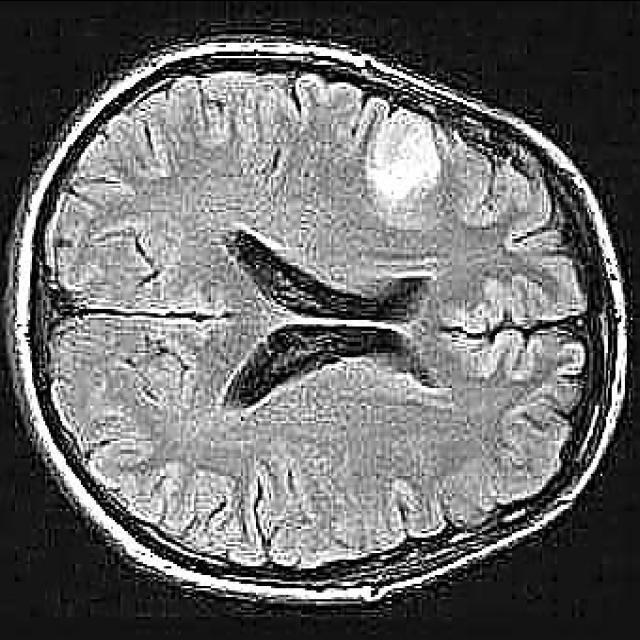tumor: (354, 95, 444, 231)
